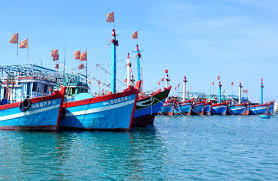tau_dansu: (57, 67, 142, 134), (5, 65, 64, 134), (119, 65, 174, 134), (227, 93, 252, 117), (252, 92, 275, 115), (210, 95, 227, 117)
